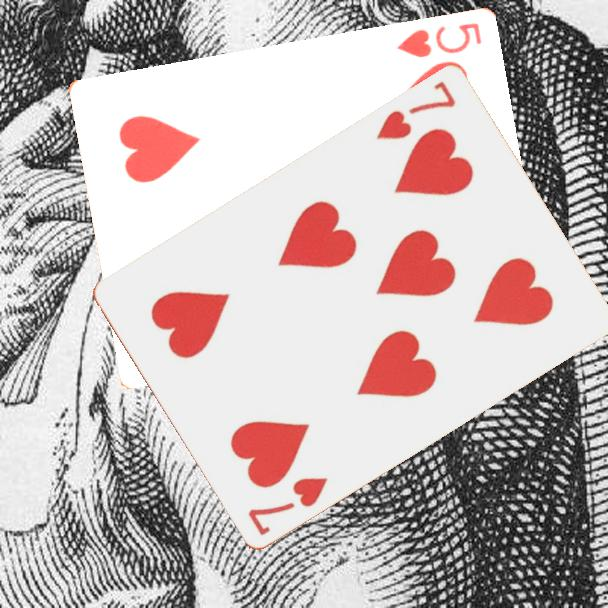h05: (393, 19, 484, 61)
h07: (372, 76, 459, 142), (244, 472, 331, 538)
